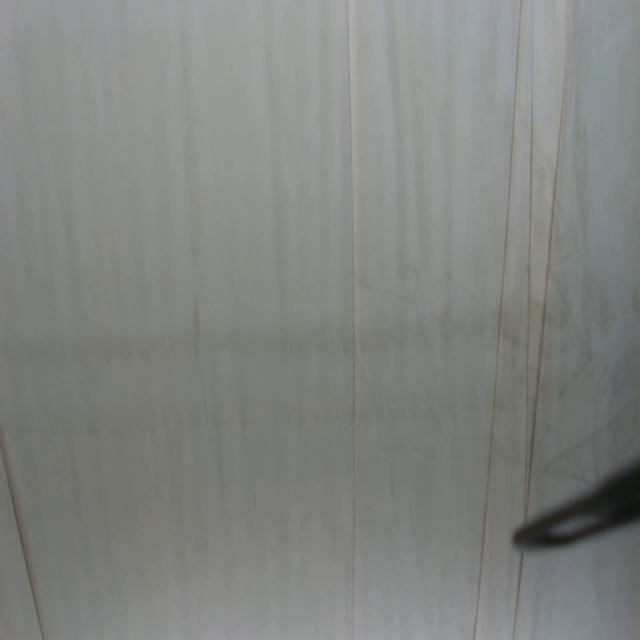color bleeding: (0, 286, 549, 379)
crease: (472, 0, 523, 639), (510, 59, 569, 513), (344, 0, 361, 639), (0, 426, 46, 639), (522, 34, 540, 521), (510, 555, 526, 640)
